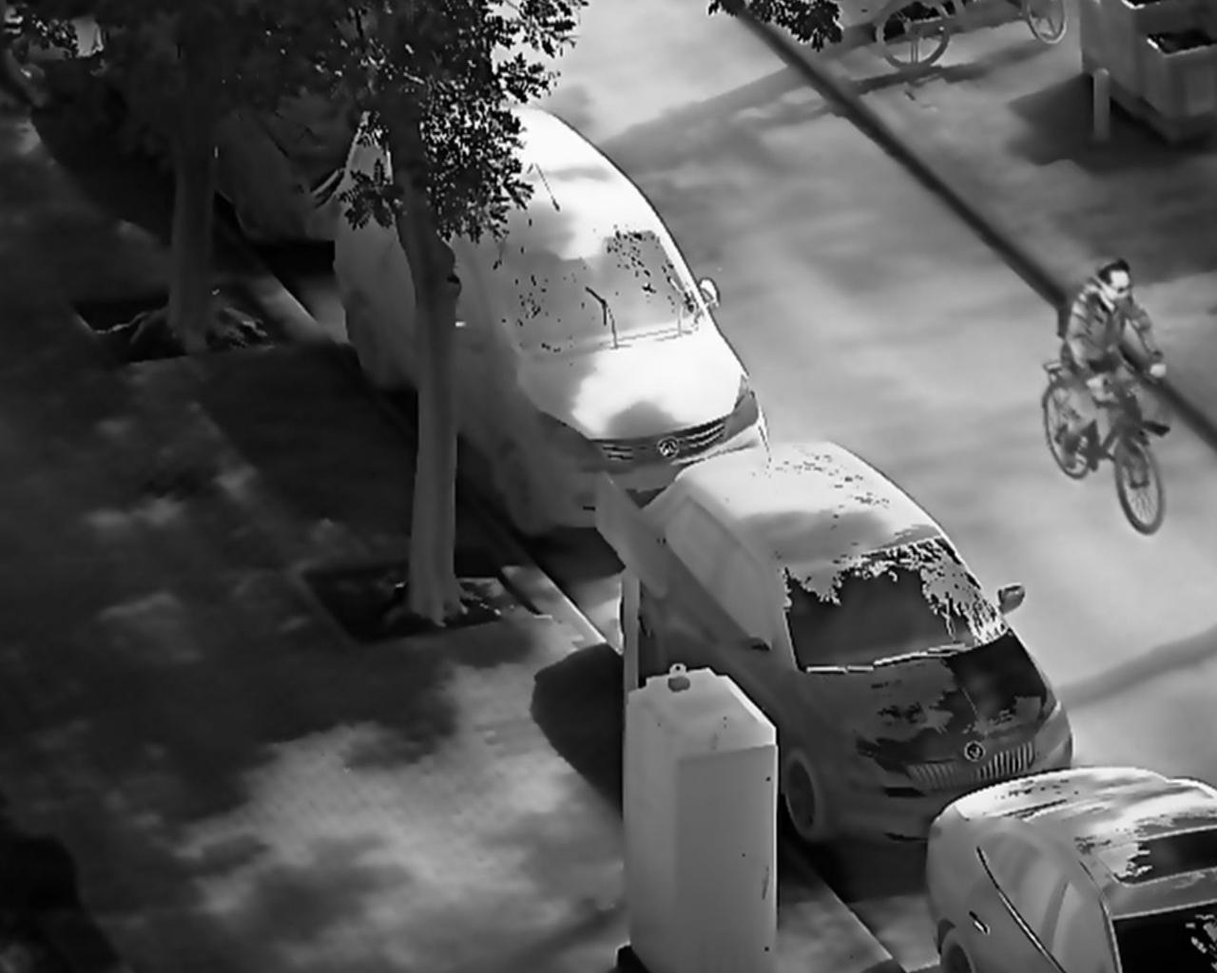person: (1053, 255, 1173, 479)
